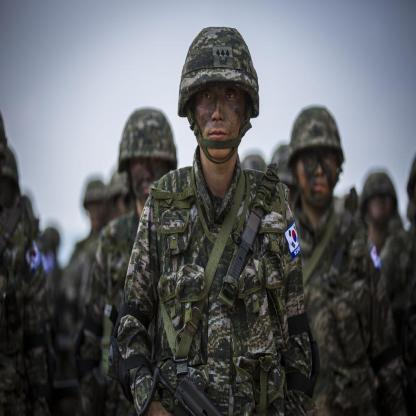Helmet: (176, 29, 264, 164), (286, 104, 348, 209), (115, 110, 178, 172), (353, 168, 400, 233)
